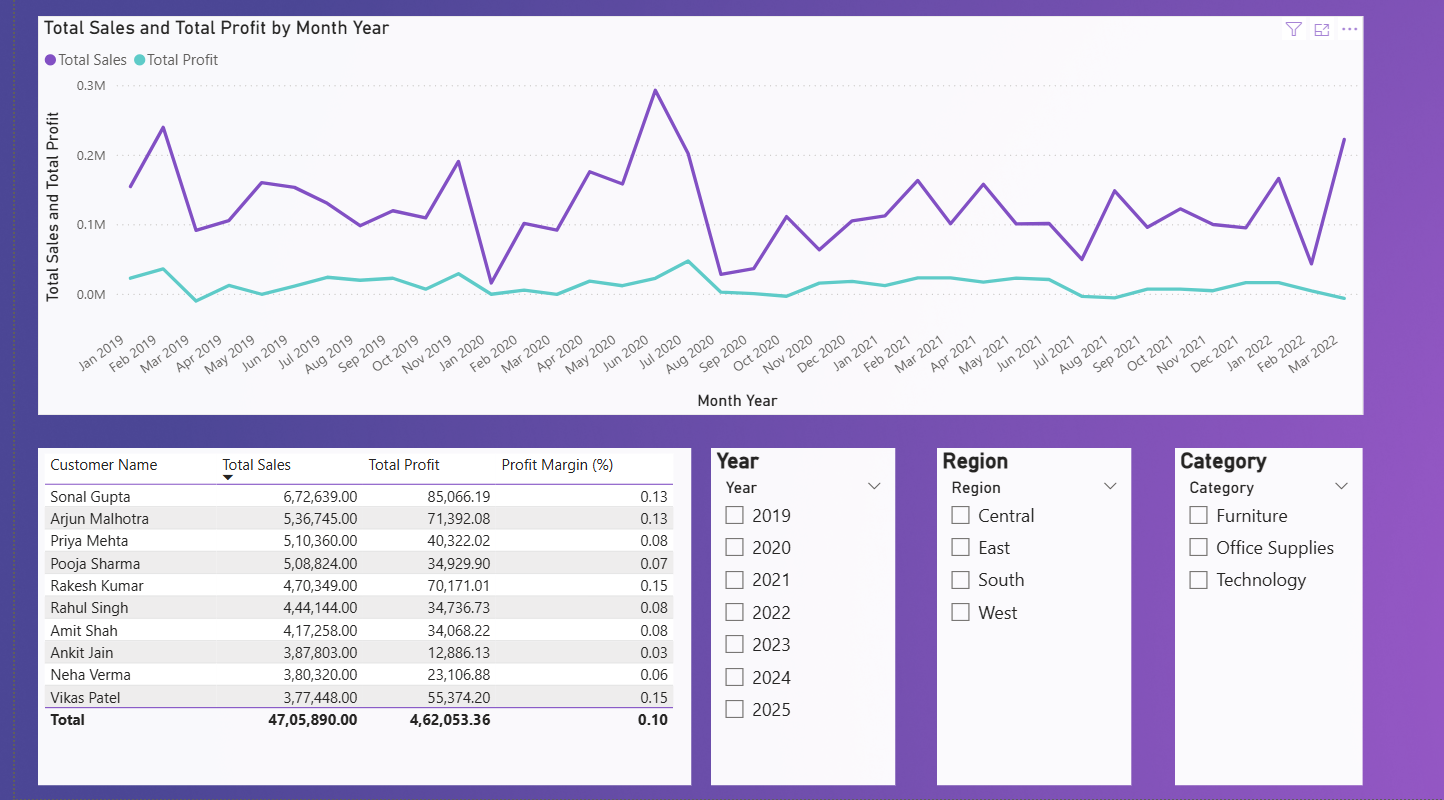

What the dashboard file says about the page in this screenshot:
{"tool":"powerbi","page":{"name":"Page 2","canvas":[1280,720],"ordinal":1},"visuals":[{"type":"tableEx","fields":{"Values":["Sheet1.Customer Name","Date.Total Sales","Date.Total Profit","Date.Profit Margin (%)"]},"box":[20.4,405.9,585,301.7],"z":0},{"type":"slicer","title":"Year","fields":{"Values":["Date.Year"]},"box":[623,405.9,165.5,301.7],"z":1},{"type":"slicer","title":"Region","fields":{"Values":["Sheet1.Region"]},"box":[825.4,405.9,174.2,301.7],"z":2},{"type":"slicer","title":"Category","fields":{"Values":["Sheet1.Category"]},"box":[1038.6,405.9,168.4,301.7],"z":3},{"type":"lineChart","fields":{"Category":["Date.Month Year"],"Y":["Date.Total Sales"],"Y2":["Date.Total Profit"]},"box":[20.4,18.5,1186.6,357.2],"z":4}]}

Visuals, with their boxes in screenshot pixels (x1, y1, x2, y2), scaled from the page's 1280x720 canvas onto the 1444x800 screenshot:
tableEx - Sheet1.Customer Name x Date.Total Sales: <box>23,451,683,786</box>
"Year" slicer: <box>703,451,890,786</box>
"Region" slicer: <box>931,451,1128,786</box>
"Category" slicer: <box>1172,451,1362,786</box>
lineChart - Date.Month Year x Date.Total Sales: <box>23,21,1362,417</box>
